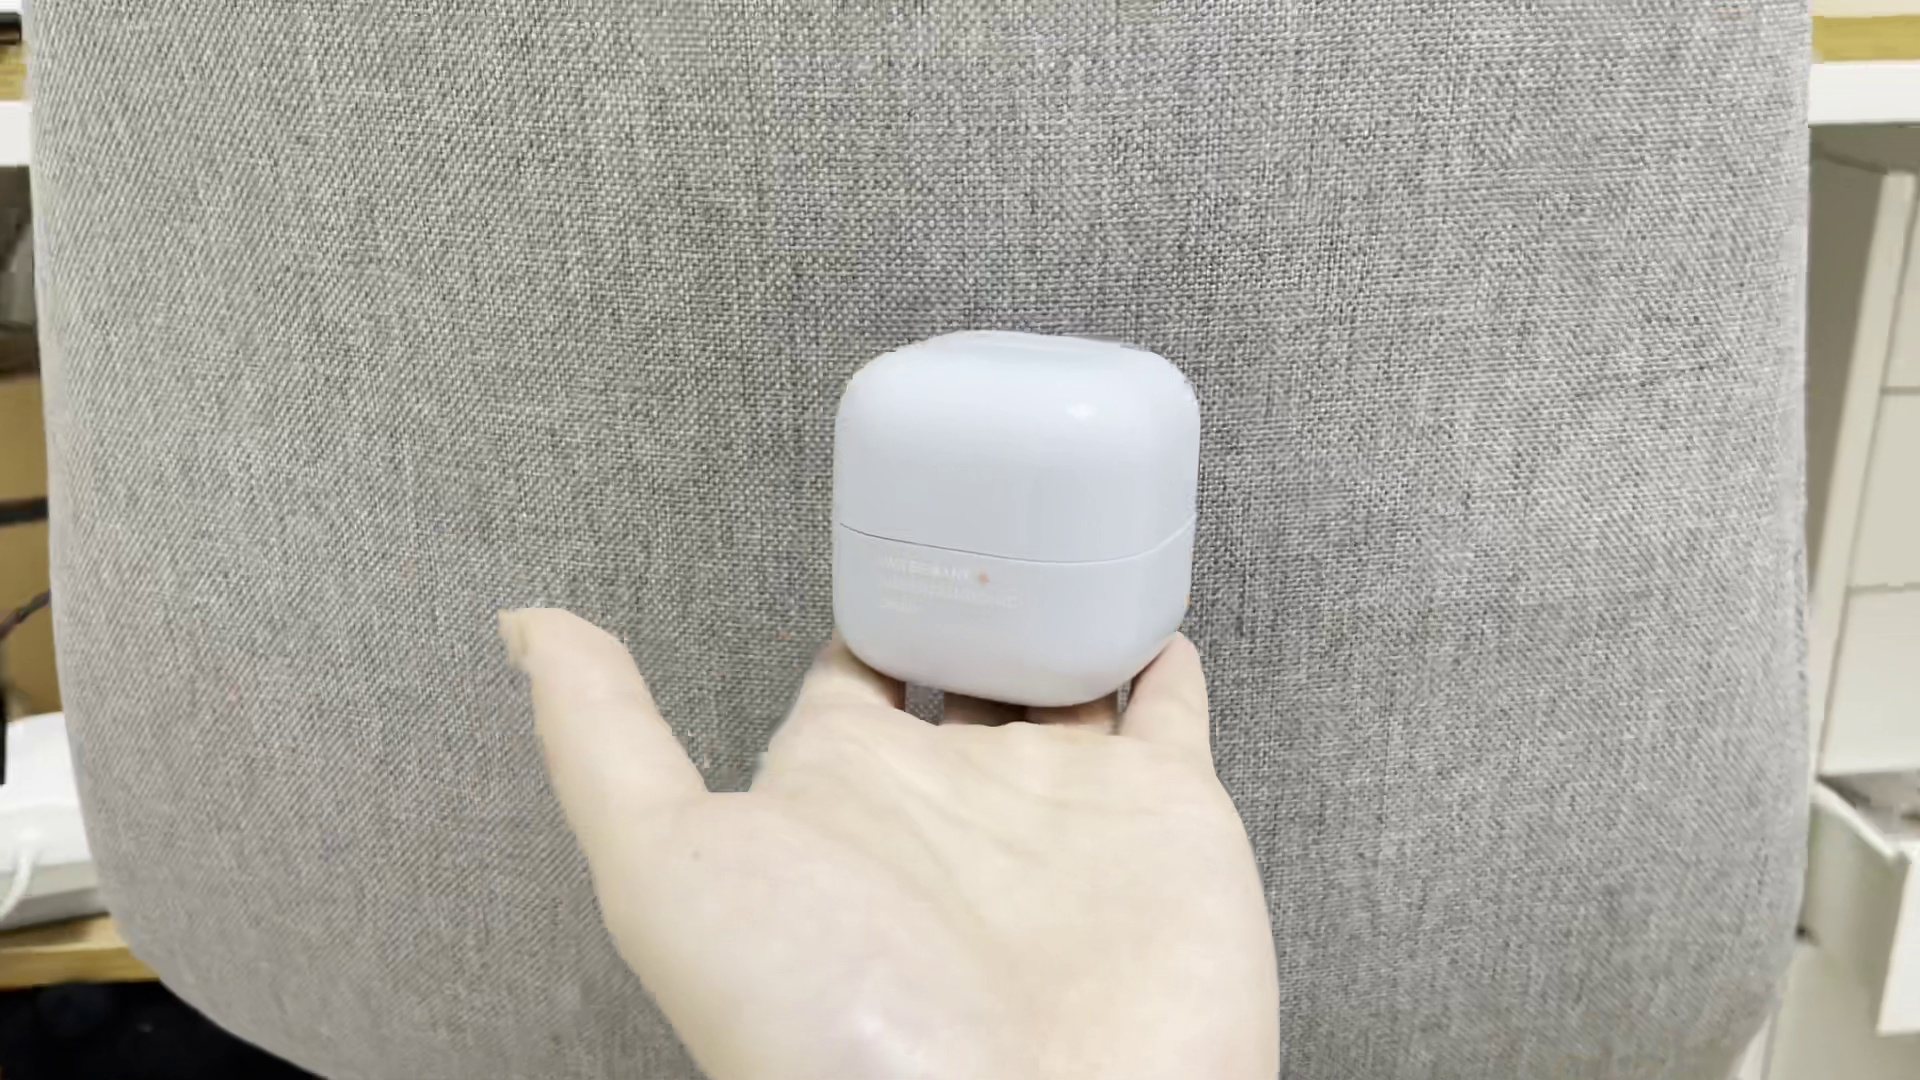cream: (825, 326, 1193, 704)
